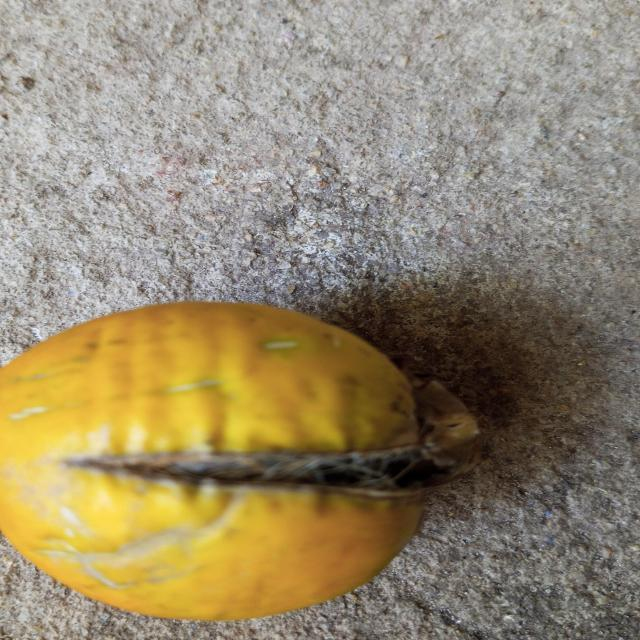damaged: (0, 302, 480, 620)
